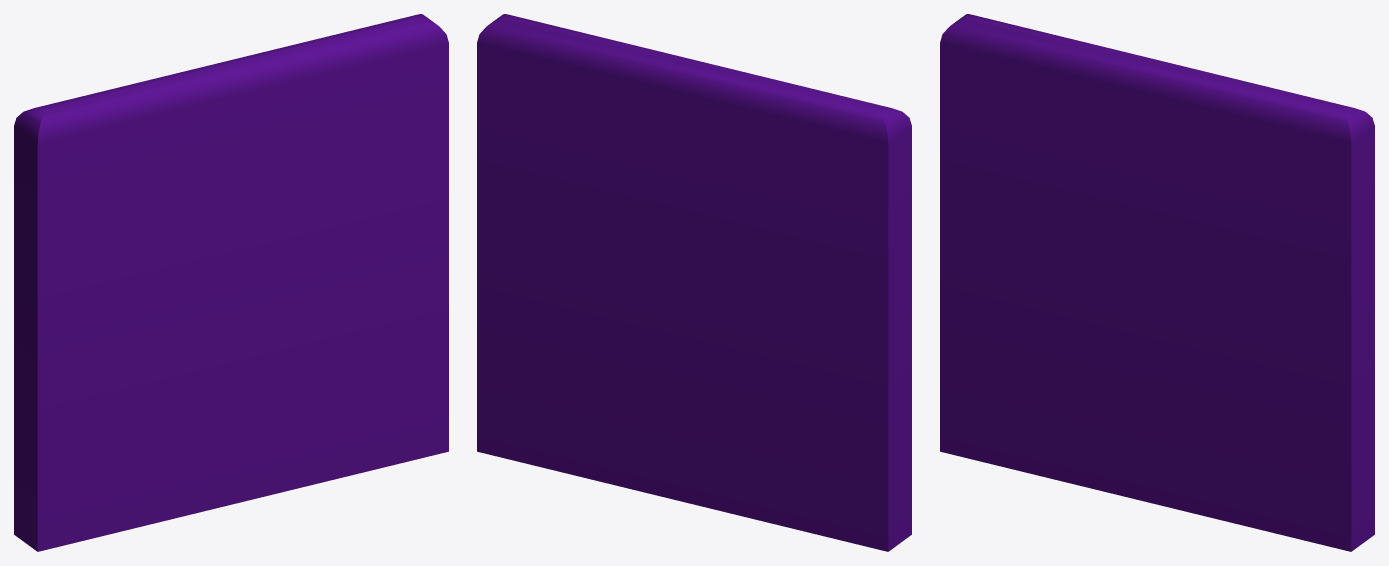
Rendered from base_wall_small.fbx.
The picture shows the model from 3 angles, left to right: view 1: azimuth 30°, elevation 25°; view 2: azimuth 150°, elevation 25°; view 3: azimuth 330°, elevation 25°; orthographic projection.
Visible parts, largest first — view 1: Cube.005; view 2: Cube.005; view 3: Cube.005.
Boxes of the visible parts, x1,y1,x2,y2 form: Cube.005: (14,14,448,551); Cube.005: (477,14,911,551); Cube.005: (940,14,1374,551).
Size of the model in its own units: 20 by 20 by 2.
